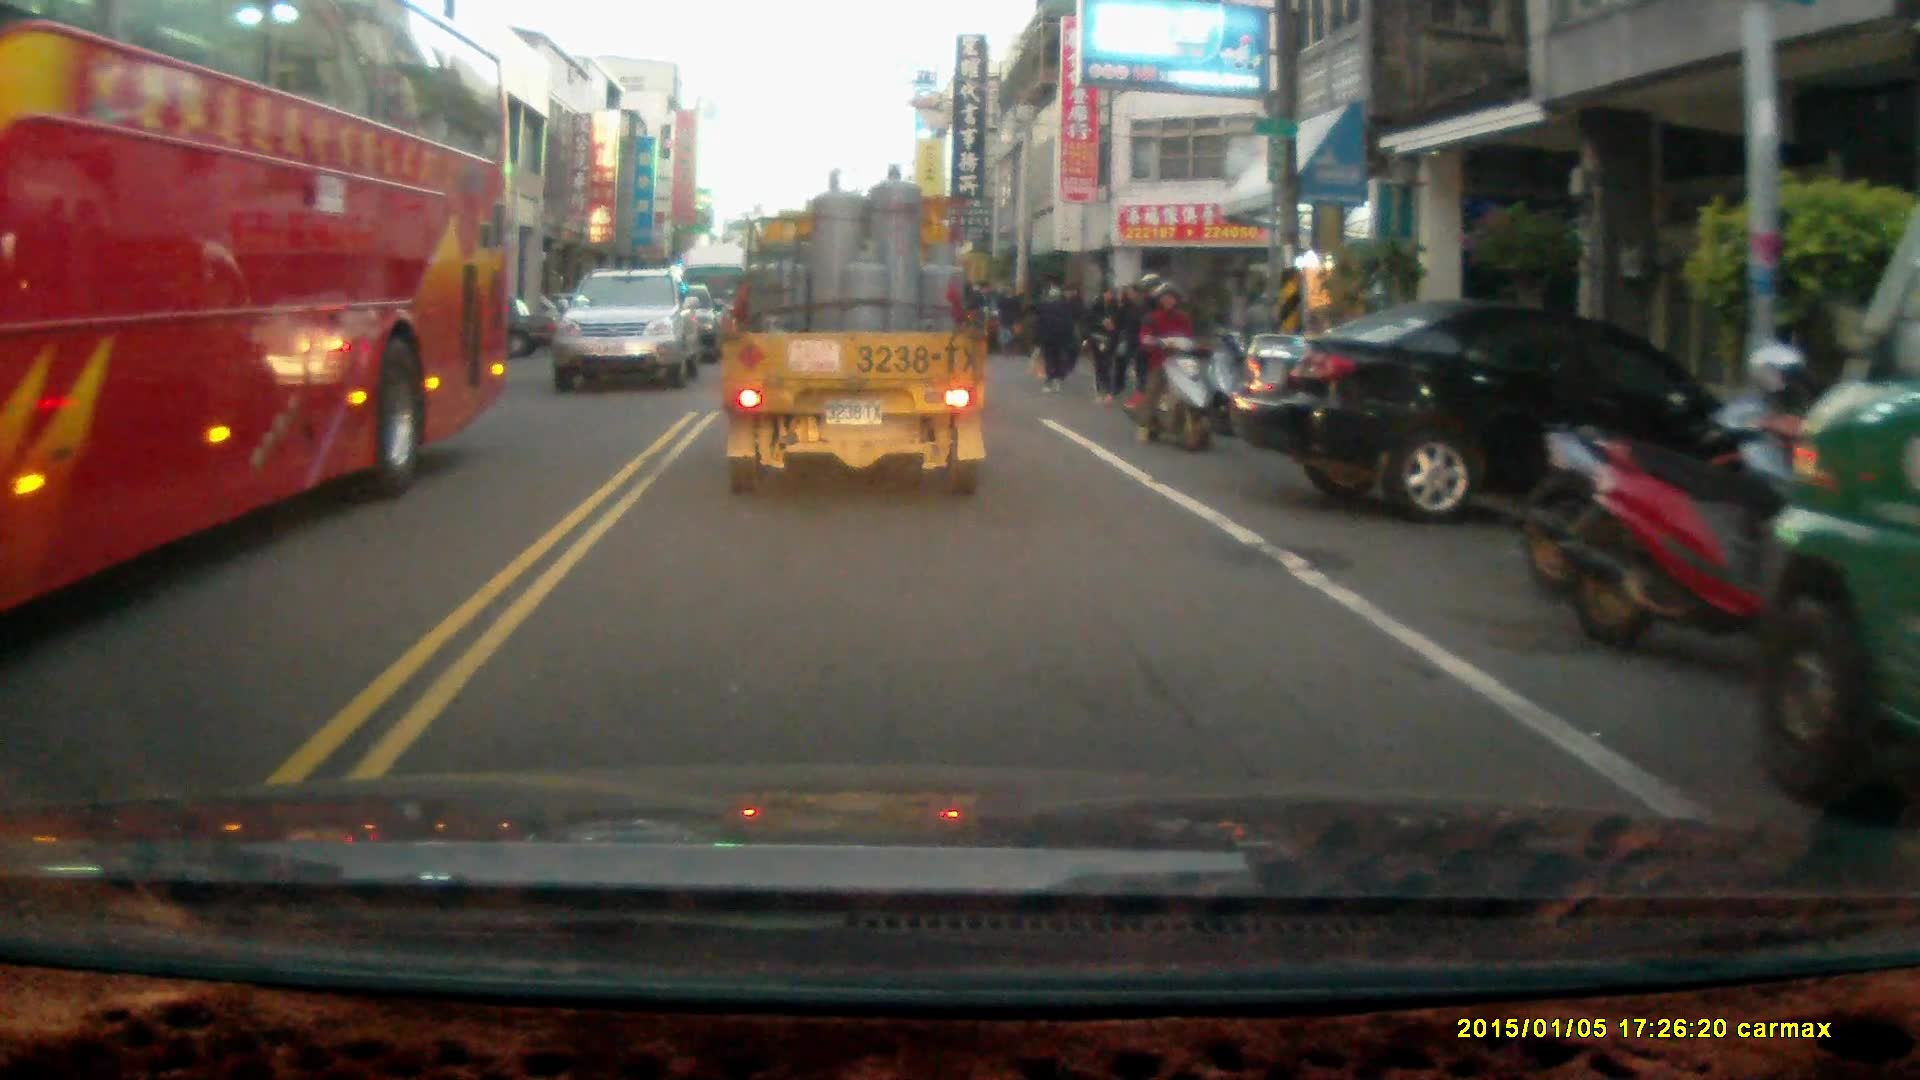pedestrian: (1031, 278, 1073, 393), (1087, 283, 1125, 408), (996, 279, 1023, 356)
rider: (1128, 270, 1210, 449)
vehicle: (1, 7, 519, 621), (1225, 302, 1779, 521), (719, 163, 995, 500), (1754, 258, 1920, 803), (553, 269, 701, 395)
